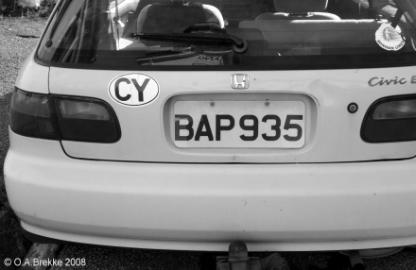license plate: (169, 95, 307, 149)
